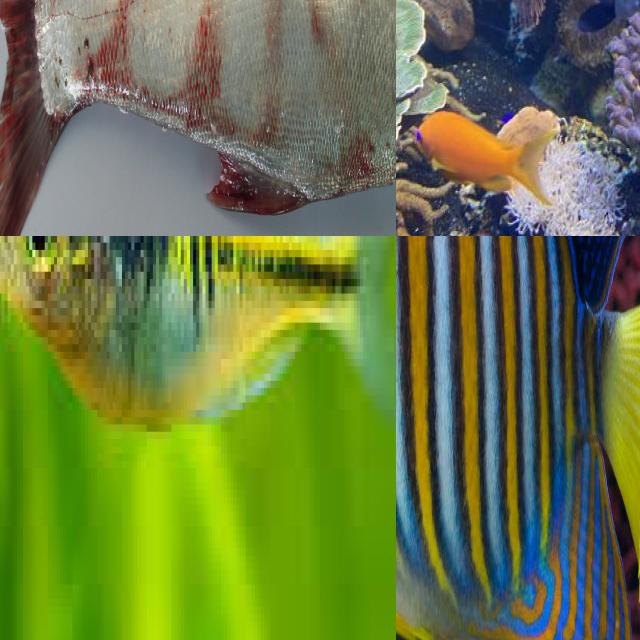fish: (0, 236, 396, 526), (396, 236, 640, 640), (0, 0, 396, 236)
